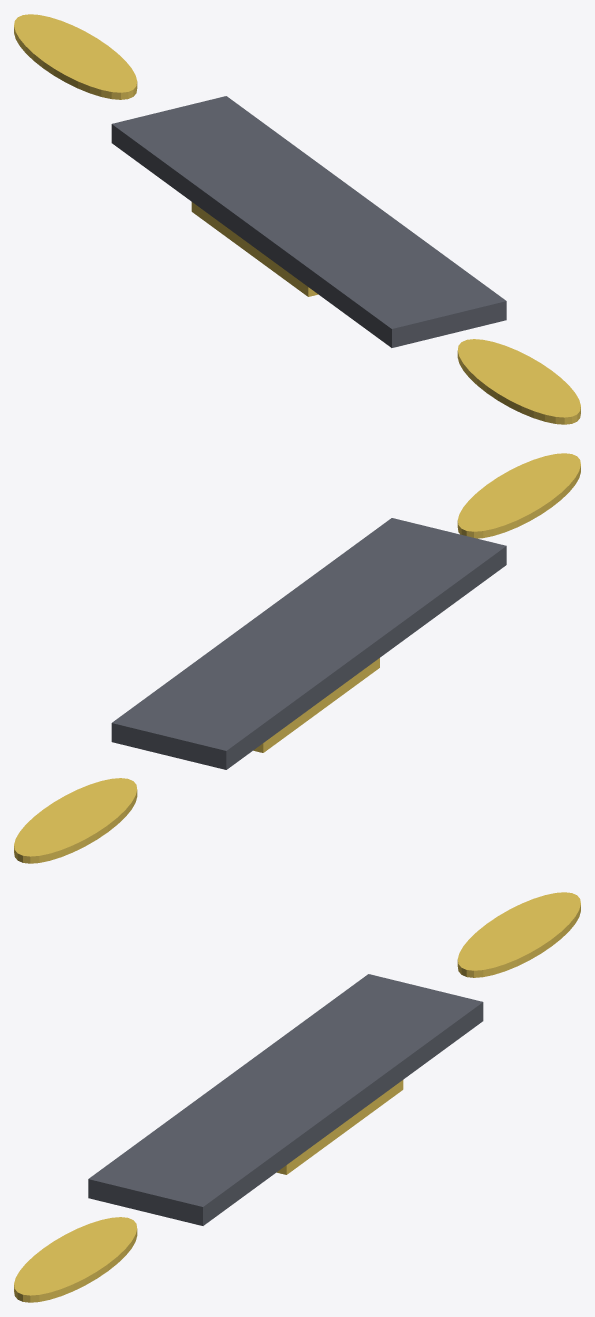
The model's file is CO_XuanwuCruiser_LOD2.glb.
3 views of the same model, one above another, from view 1: azimuth 30°, elevation 25°; view 2: azimuth 150°, elevation 25°; view 3: azimuth 330°, elevation 25° (orthographic).
Visible parts, largest first — view 1: Cube.001, Cylinder, Cylinder.001, Cube; view 2: Cube.001, Cylinder.001, Cylinder, Cube; view 3: Cube.001, Cylinder, Cylinder.001, Cube.
Boxes of the visible parts, left/top/right/bottom form: Cube.001: left=111, top=96, right=506, bottom=347; Cylinder: left=457, top=339, right=580, bottom=424; Cylinder.001: left=14, top=14, right=137, bottom=99; Cube: left=191, top=202, right=318, bottom=296; Cube.001: left=111, top=518, right=506, bottom=769; Cylinder.001: left=14, top=778, right=137, bottom=863; Cylinder: left=457, top=453, right=580, bottom=538; Cube: left=253, top=658, right=379, bottom=752; Cube.001: left=88, top=974, right=483, bottom=1225; Cylinder: left=14, top=1217, right=137, bottom=1302; Cylinder.001: left=457, top=892, right=580, bottom=977; Cube: left=276, top=1080, right=403, bottom=1174.
Size of what is drawn, in the model's own units: 3.52 by 1.47 by 29.14.
